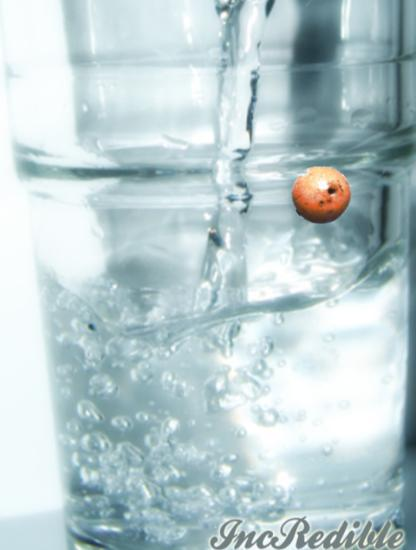Granadilla: (291, 165, 352, 226)
